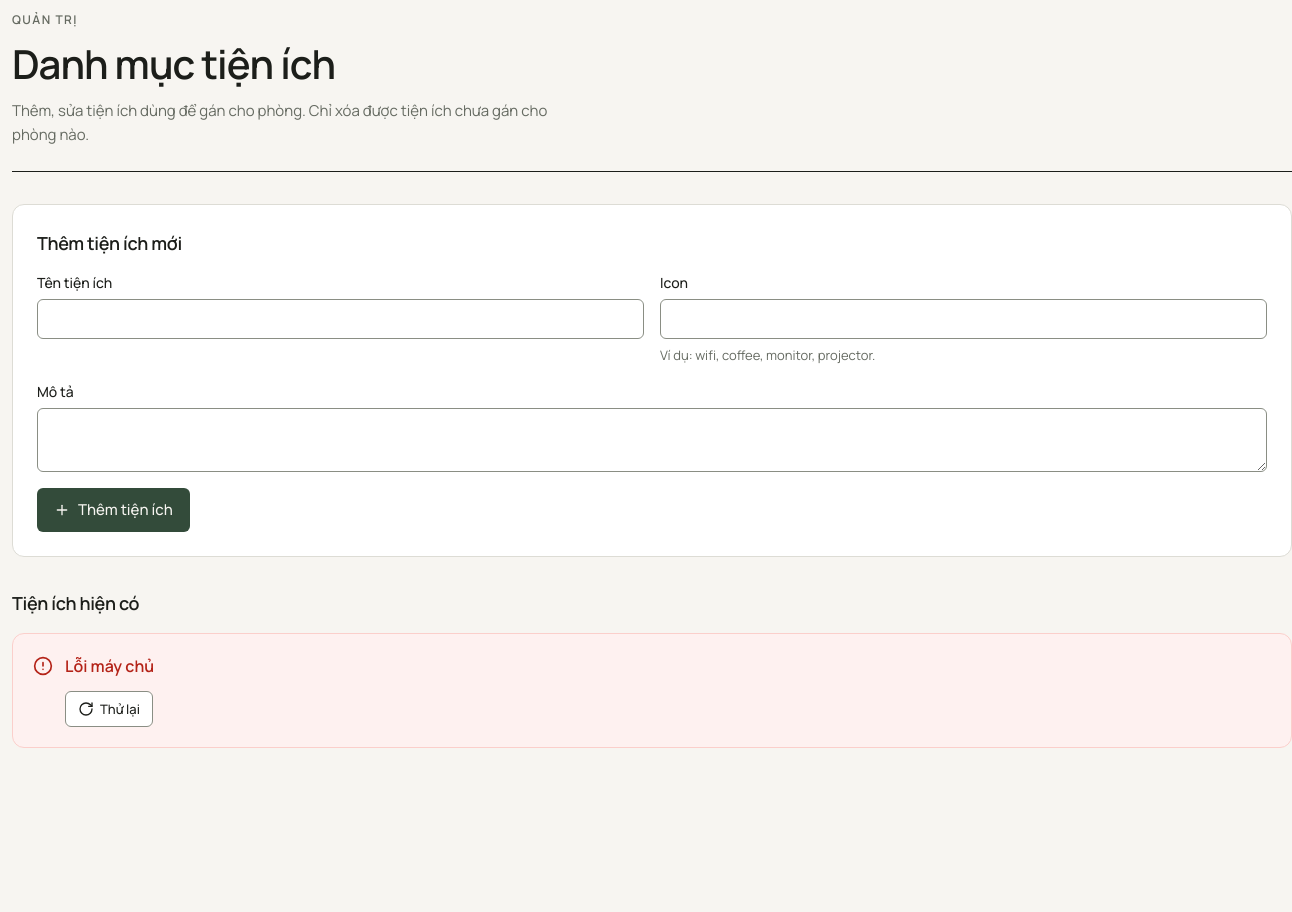
it: AdminAmenitiesPage (CWB-65) › shows a retryable error state
The width and height of the screenshot is (1292, 912).
expect the text "Lỗi máy chủ" is shown: met, box [65,655,154,677]
Click the button with test id "amenity-retry" at point(109, 709), box [65,691,153,727]
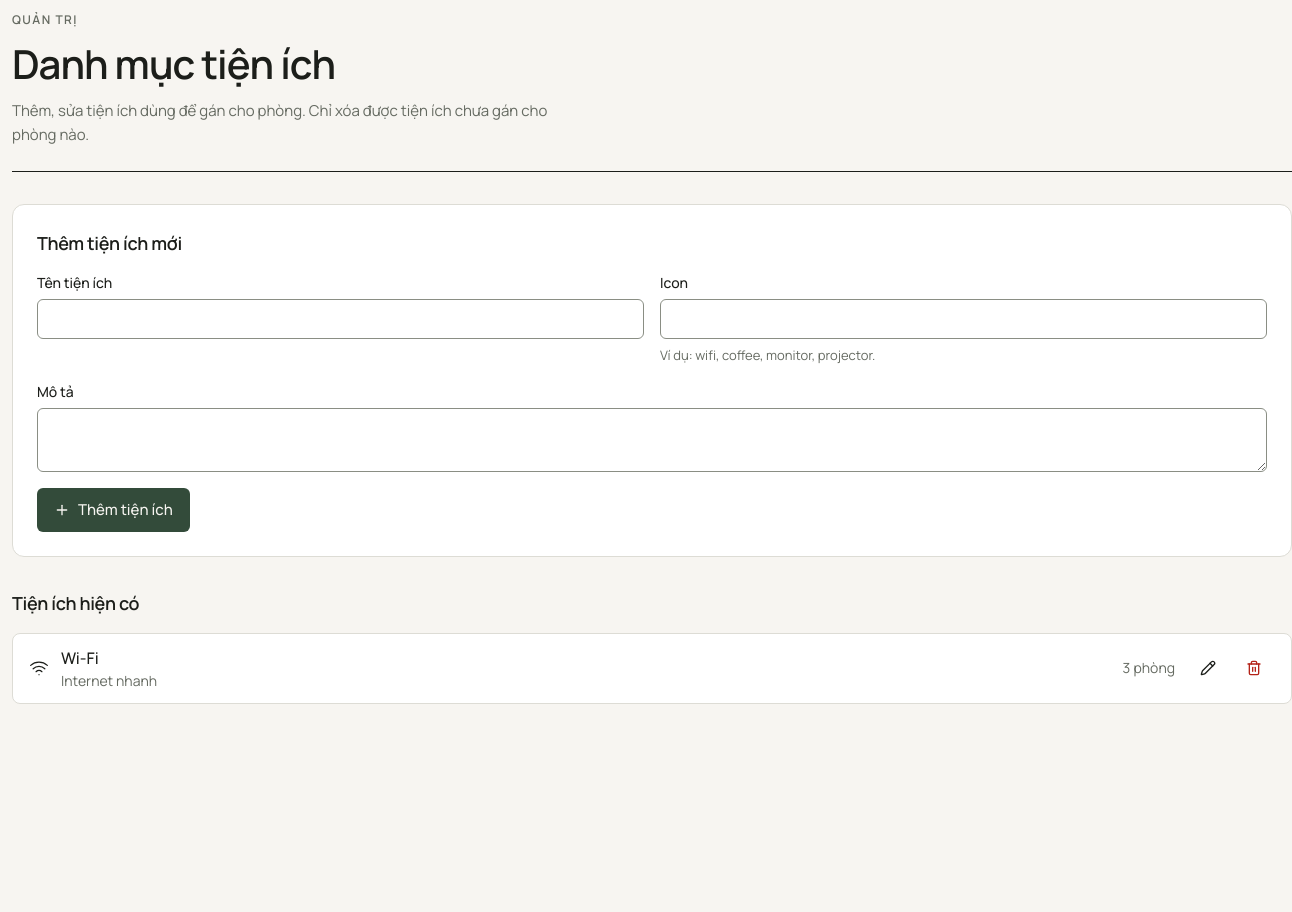
expect the list item with test id "amenity-row-a-wifi" is shown: met, box [13,634,1291,703]
